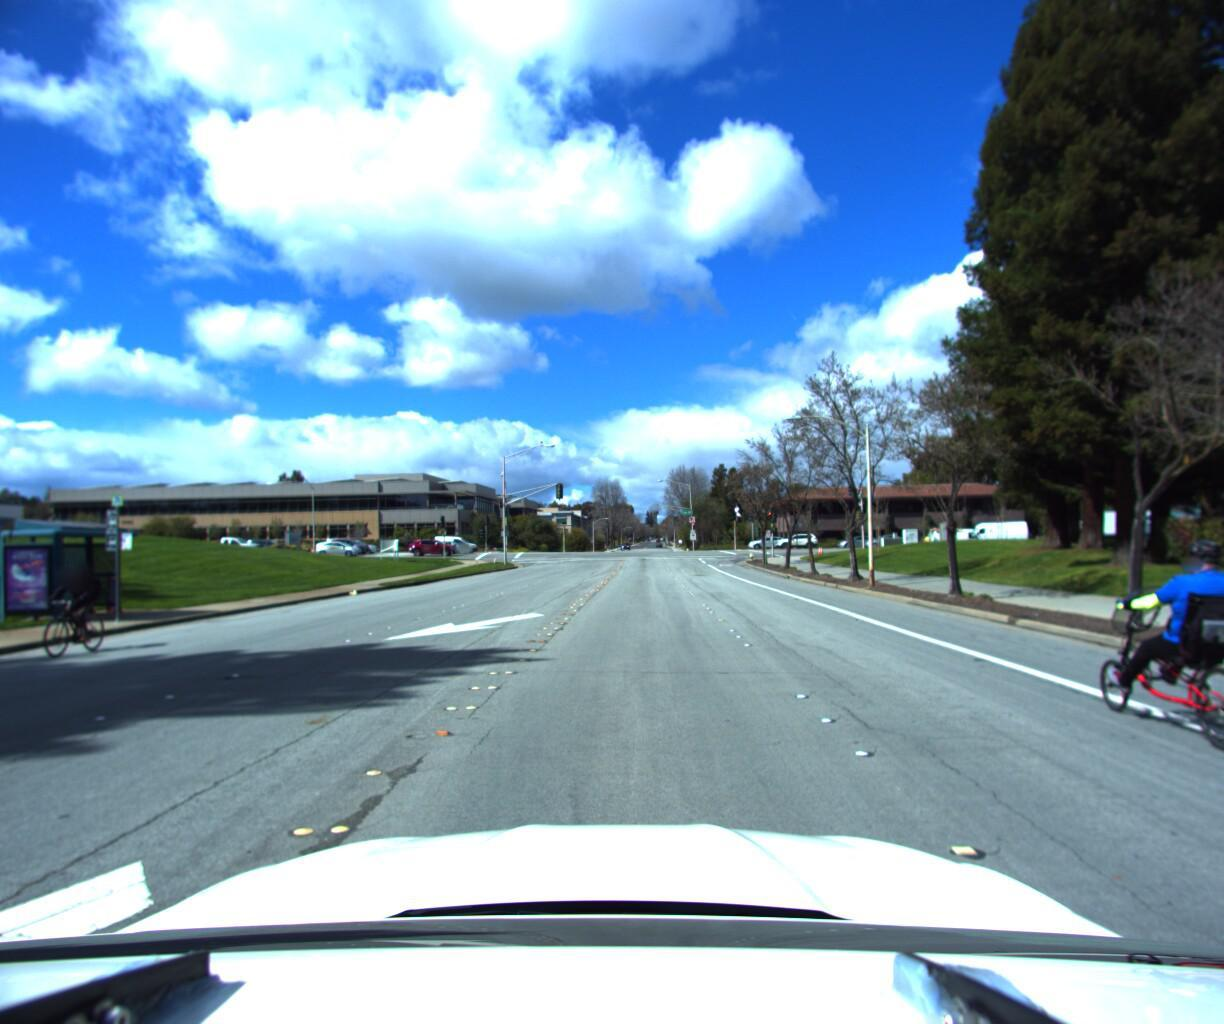bicycle: (1068, 528, 1224, 769), (17, 564, 129, 668)
car: (921, 523, 990, 552), (407, 538, 460, 558), (316, 542, 369, 559), (437, 536, 484, 555), (773, 531, 819, 549)
